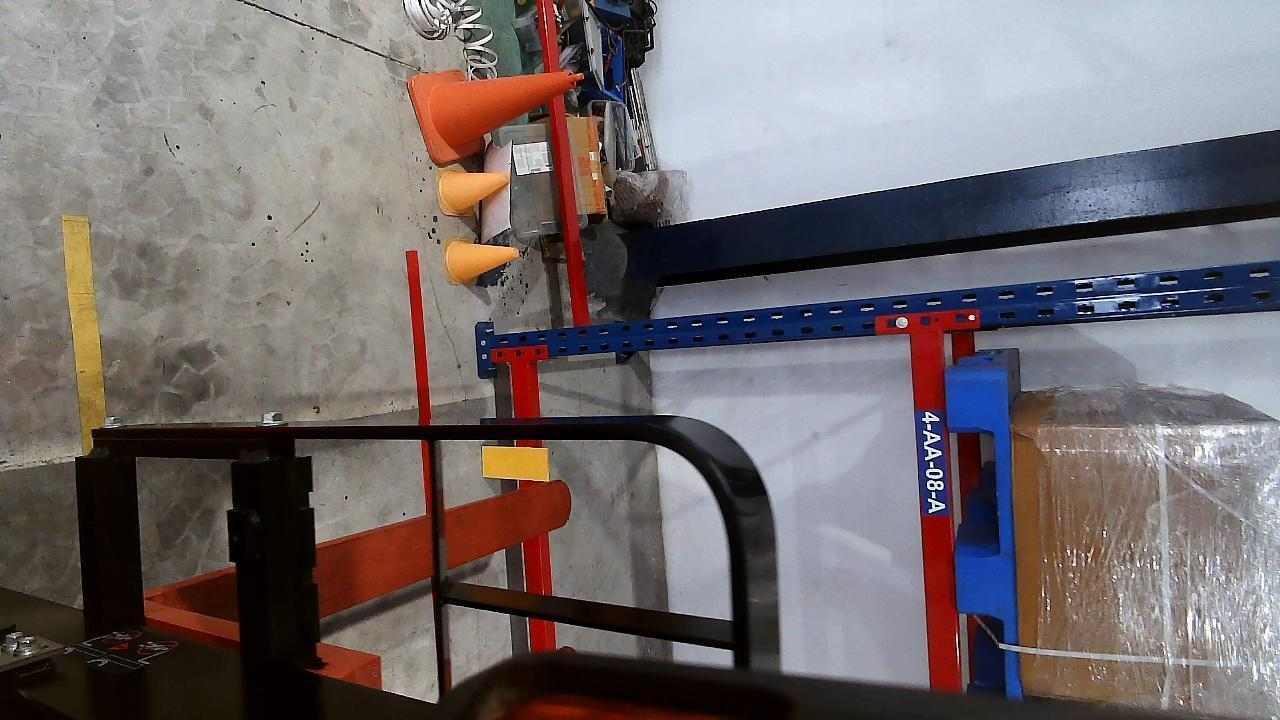red_line: (404, 250, 432, 424)
yellow_line: (61, 215, 108, 430)
